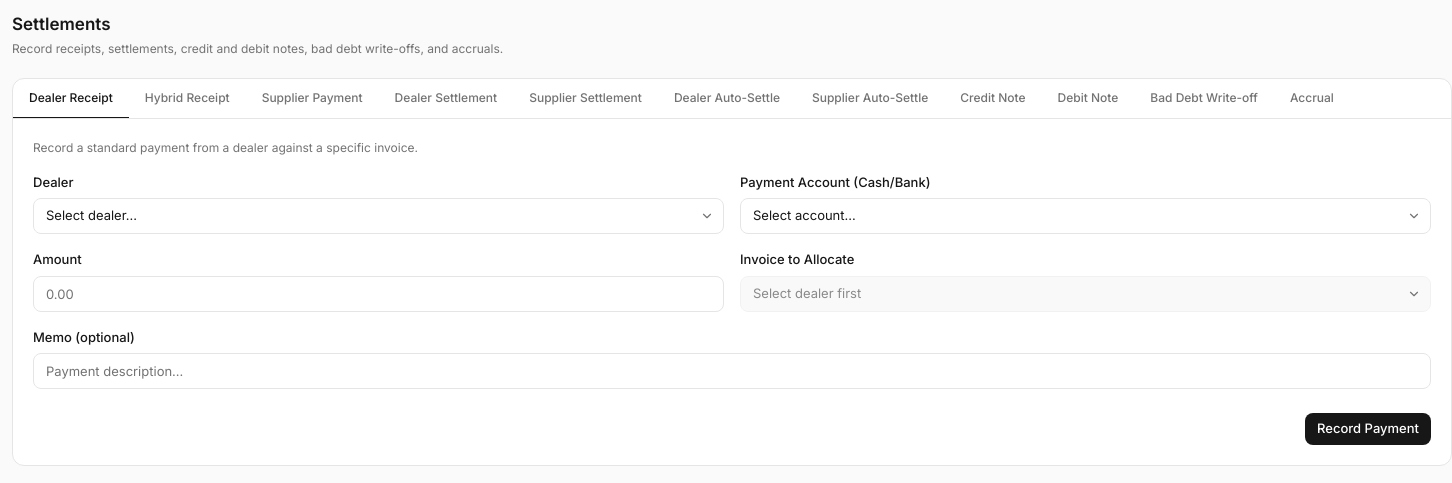
it: SettlementsPage › dealer receipt shows success reference after valid submission
This screenshot has width=1452, height=483.
Expected: the button "Record Payment" is shown, [1305,413,1431,445]
# Select dealer
Select "ABC Paints (D001)" in the dropdown labelled "Dealer": (378, 216) [33,198,724,234]
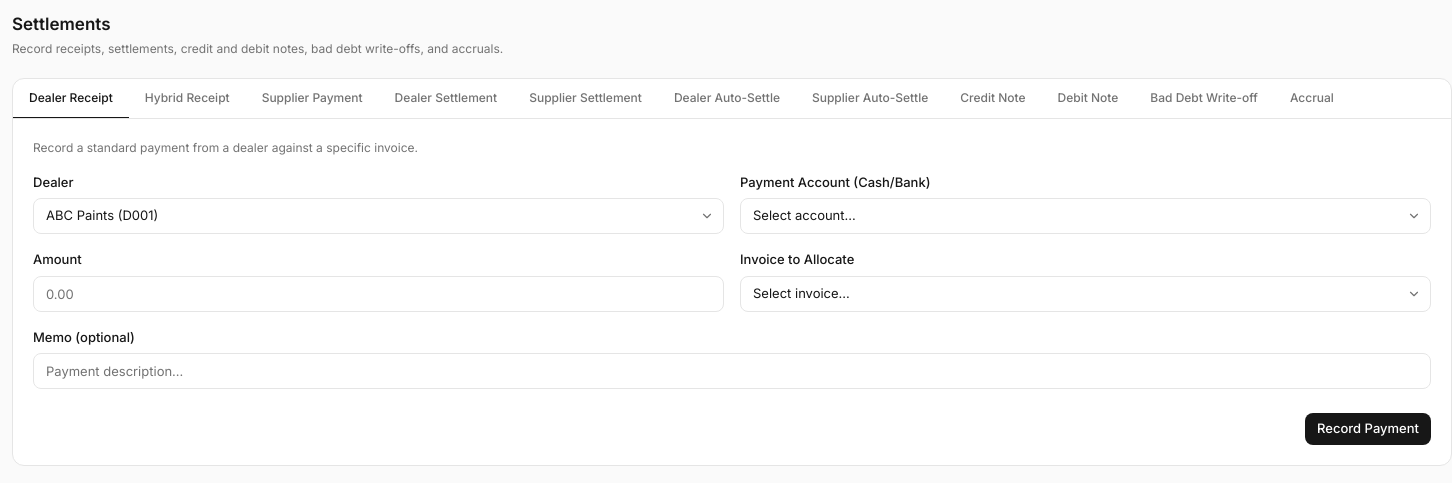
# Select account
Select "1100 — Cash" in the dropdown labelled "Payment Account (Cash/Bank)": (1086, 216) [740,198,1431,234]
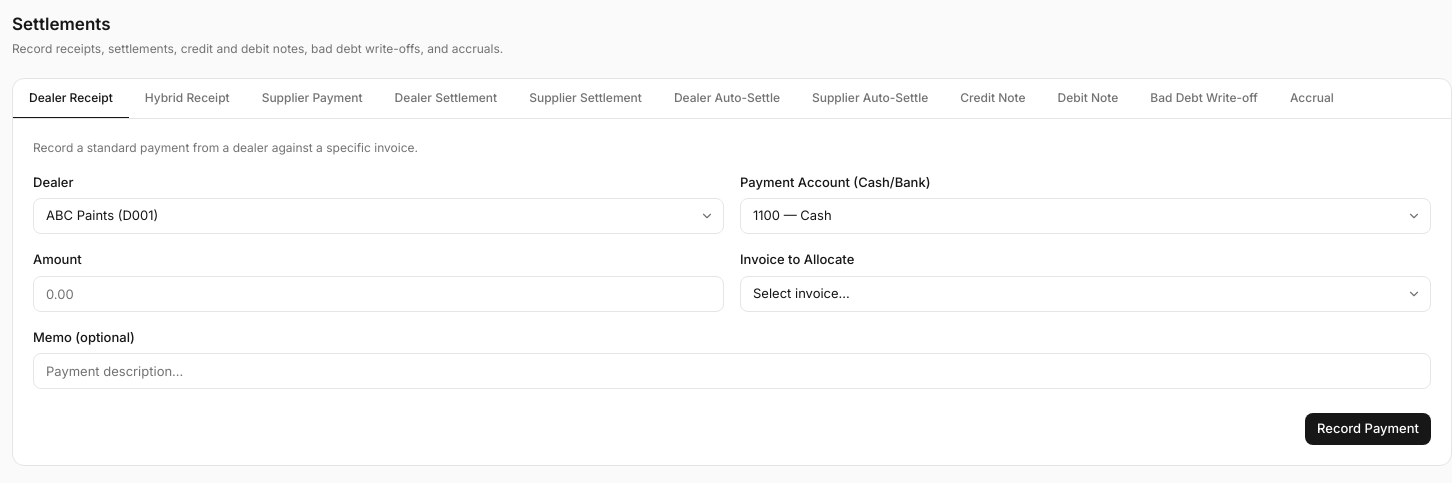
# Enter amount
In the number field labelled "Amount": (378, 294) [33,276,724,312], type "5000"
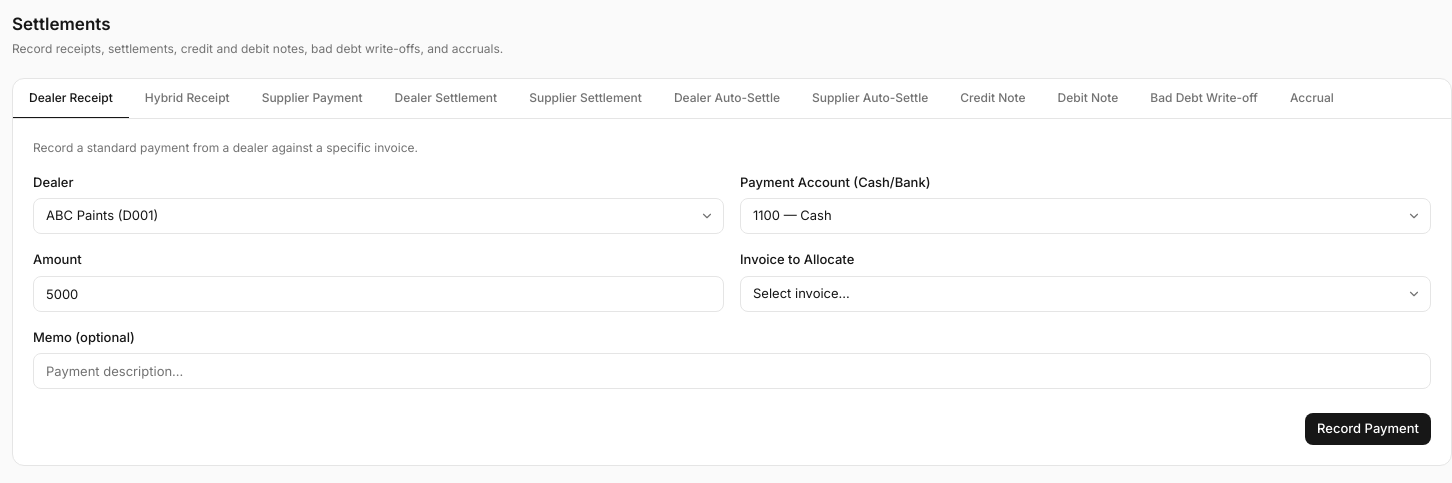
# Select invoice
Select "INV-005 — Outstanding: ₹5,000" in the dropdown labelled "Invoice to Allocate": (1086, 294) [740,276,1431,312]
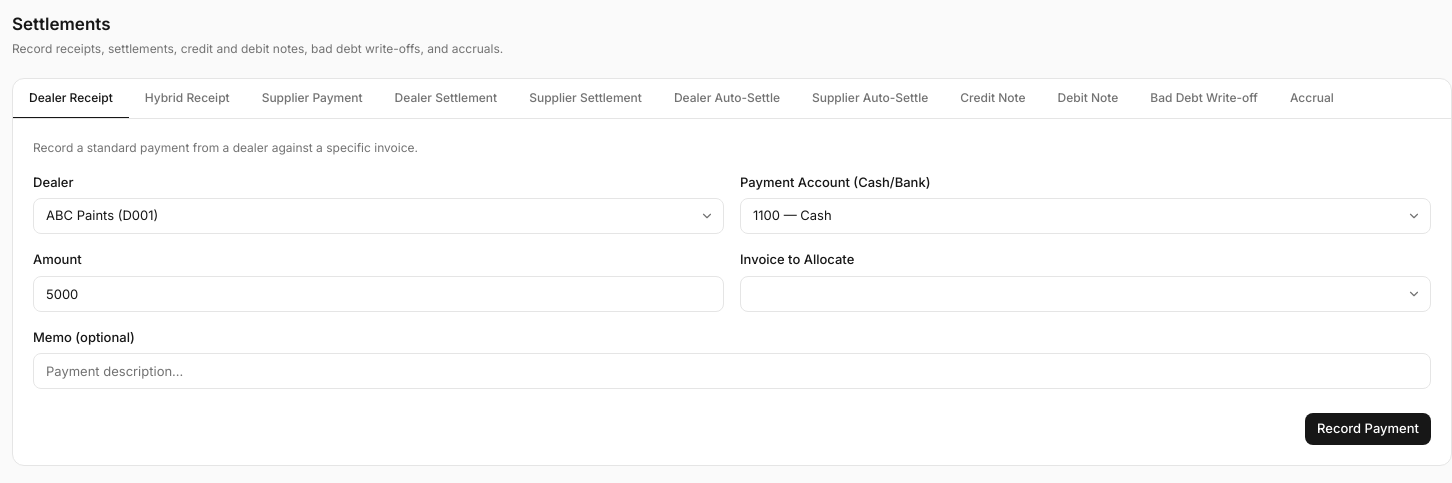
Click the button "Record Payment": (1368, 429) [1305,413,1431,445]
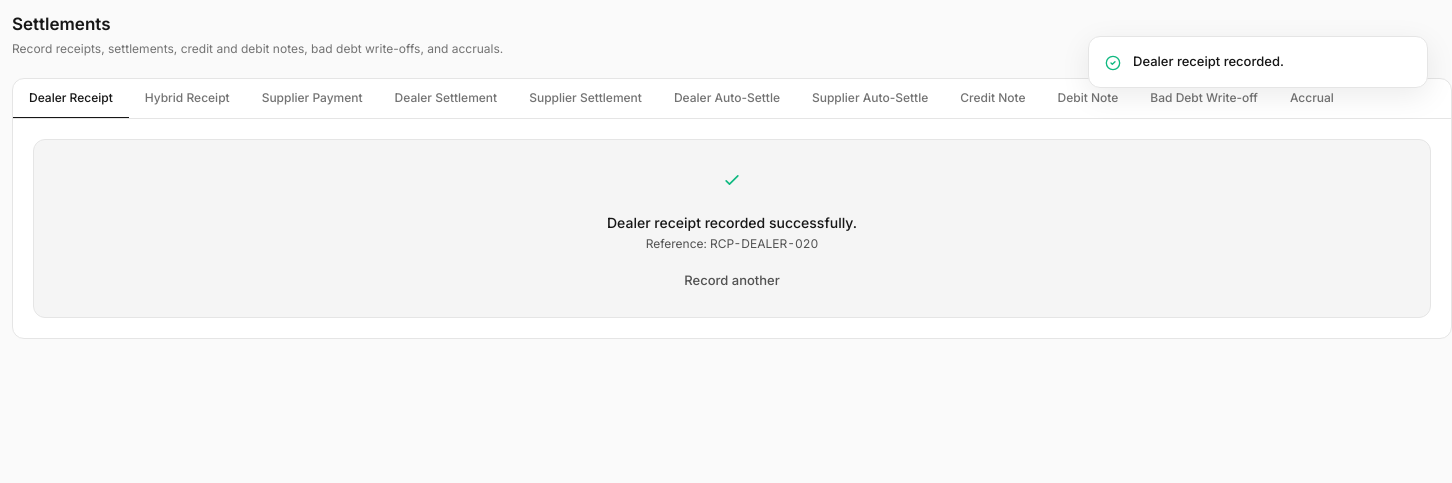
Expected: the text "Dealer receipt recorded successfully." is shown, [607,214,857,230]
Expected: the text "Reference: RCP-DEALER-020" is shown, [646,236,818,250]
